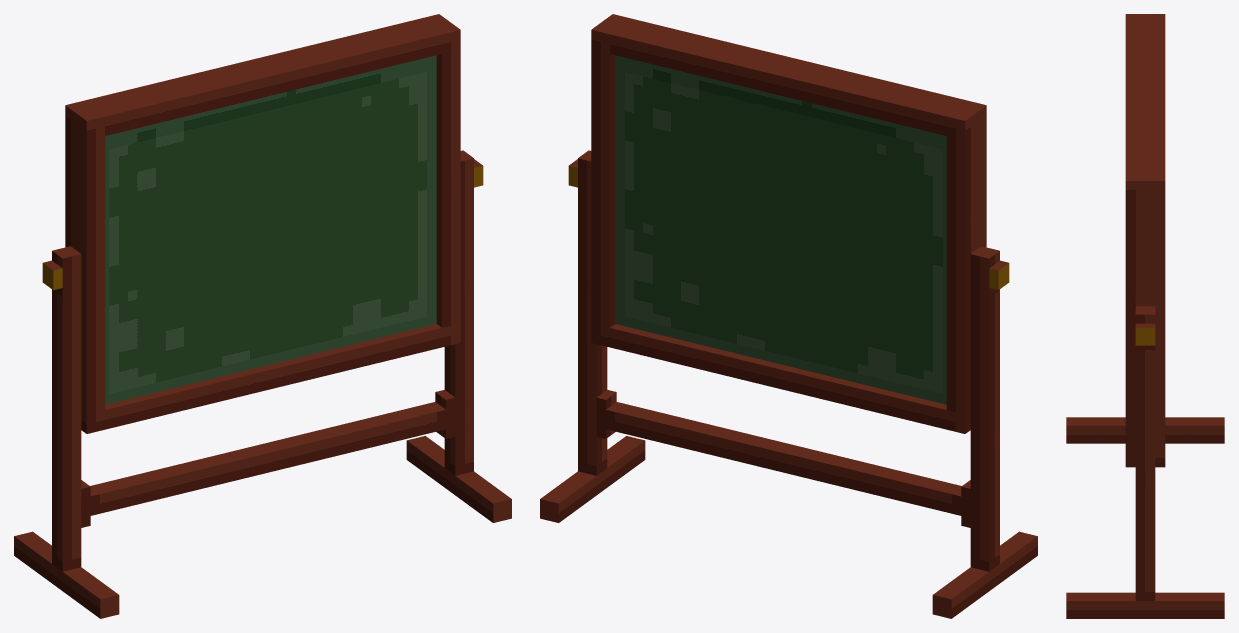
Rendered from greenboardao.fezao.glb.
The picture shows the model from 3 angles, left to right: view 1: azimuth 30°, elevation 25°; view 2: azimuth 150°, elevation 25°; view 3: azimuth 270°, elevation 25°; orthographic projection. The views are drawn at different scales.
Parts seen in each view (by area): view 1: GREENBOARDAO; view 2: GREENBOARDAO; view 3: GREENBOARDAO.
Boxes of the visible parts, x1=… form: GREENBOARDAO: x1=14, y1=14, x2=511, y2=618; GREENBOARDAO: x1=540, y1=14, x2=1037, y2=618; GREENBOARDAO: x1=1066, y1=14, x2=1224, y2=618.
Bounding box in the file's own units: 2.88 × 3 × 1.
1 material, 1 textured.
